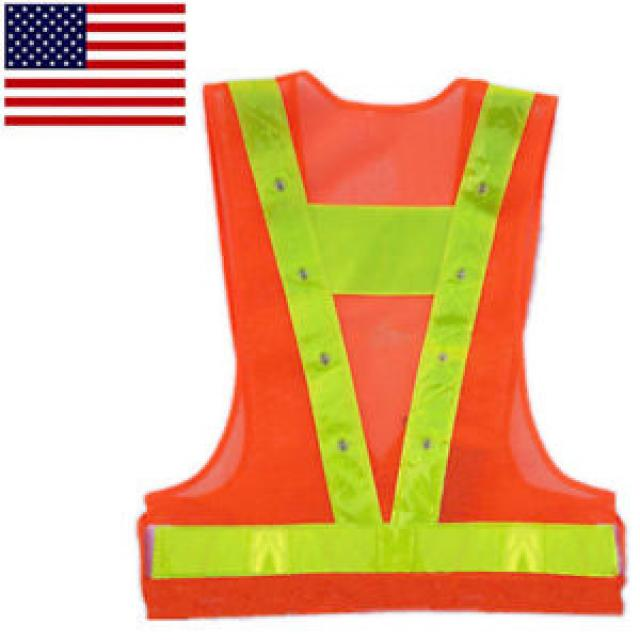Reflective-Jacket: (30, 34, 640, 638)
